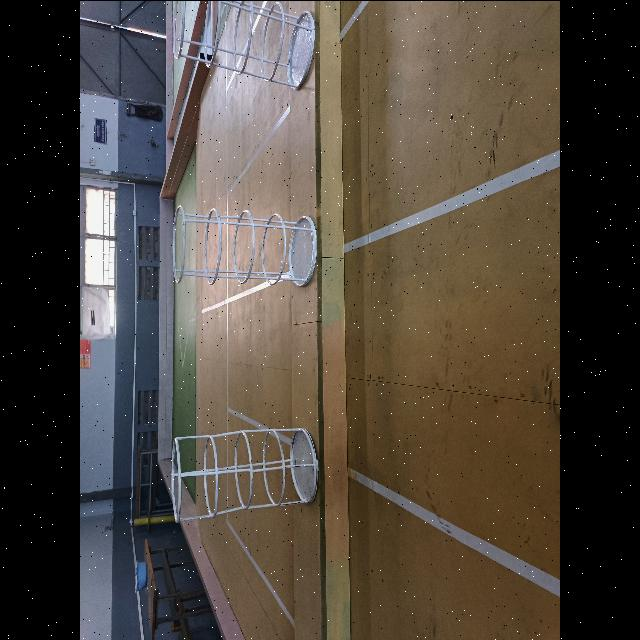S: (169, 422, 321, 525), (172, 0, 320, 93), (170, 203, 321, 289)
